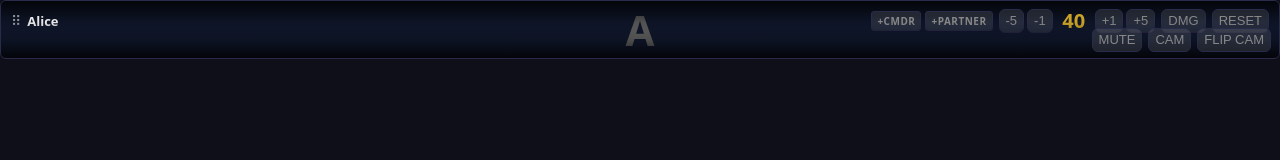
it: PlayerVideo › clicking the life total span enters edit mode and shows an input
This screenshot has width=1280, height=160.
Click the text "40". click: (1074, 21)
box: [1062,7,1085,34]
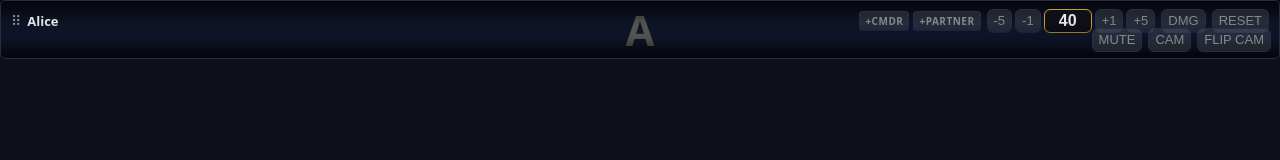
Expected: the field is shown, [1044,9,1092,33]
